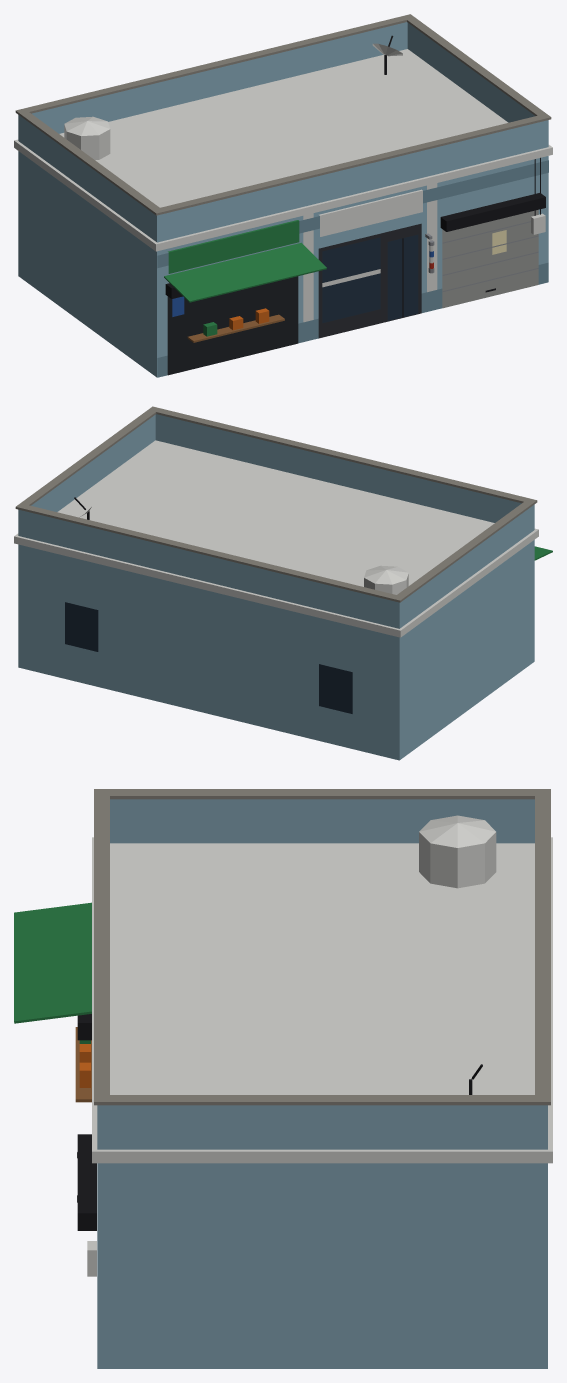
Rendered from building_domitiana-block.glb.
3 renders of one model, top to bottom at view 1: azimuth 30°, elevation 25°; view 2: azimuth 150°, elevation 25°; view 3: azimuth 270°, elevation 25°, orthographic. The views are drawn at different scales.
Visible parts, largest first — view 1: body; view 2: body; view 3: body.
Part boxes in pixels (x1,y1,x2,y2): body: [14, 14, 552, 377]; body: [14, 406, 552, 760]; body: [14, 789, 552, 1368].
Size of the model in its own units: 11.56 by 4.71 by 8.37.
